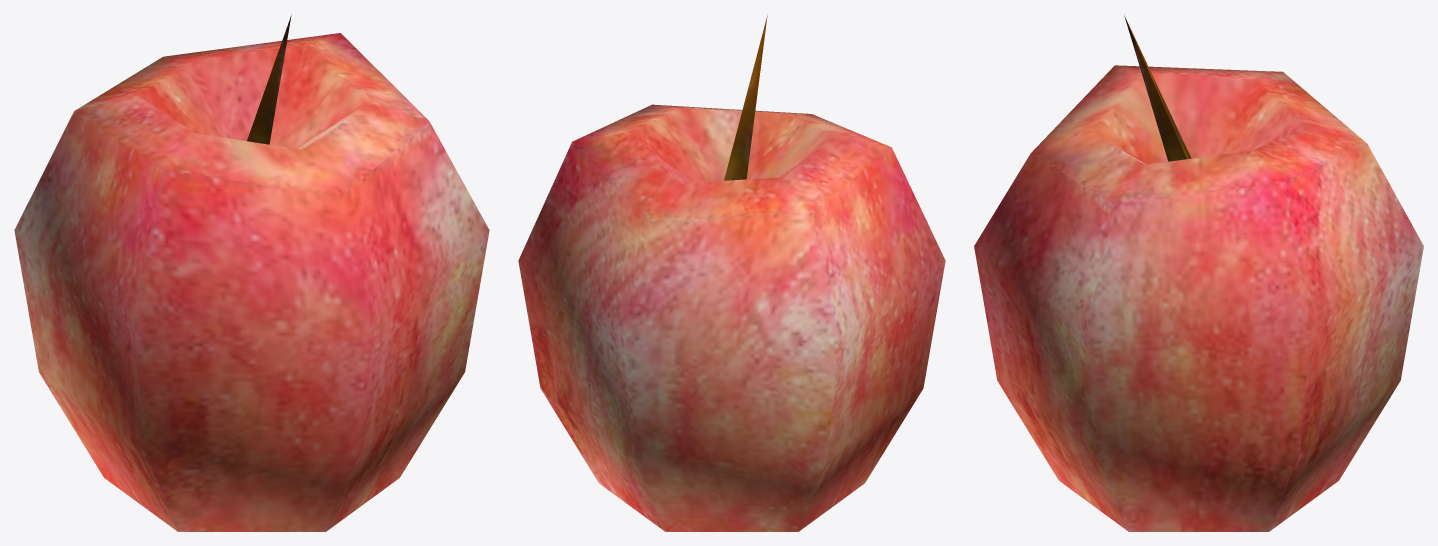
File: apple.glb
3 views of the same model, side by side, from view 1: azimuth 30°, elevation 25°; view 2: azimuth 150°, elevation 25°; view 3: azimuth 270°, elevation 25° (orthographic). The views are drawn at different scales.
Visible parts, largest first — view 1: Apple.001; view 2: Apple.001; view 3: Apple.001.
Part boxes in pixels (x1,y1,x2,y2): Apple.001: (14,15,489,531); Apple.001: (518,15,945,531); Apple.001: (974,15,1423,531).
Bounding box in the file's own units: 0.1198 × 0.1584 × 0.1384.
Materials: 1 (1 with a texture image).
